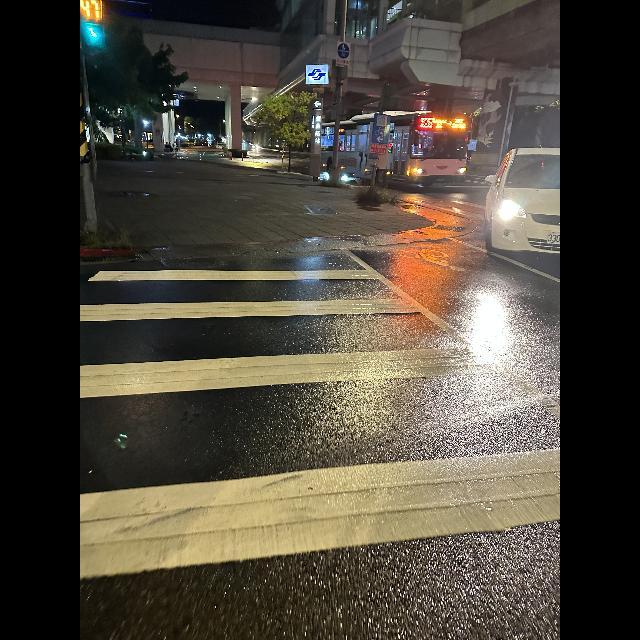sidewalk: (80, 251, 559, 640)
